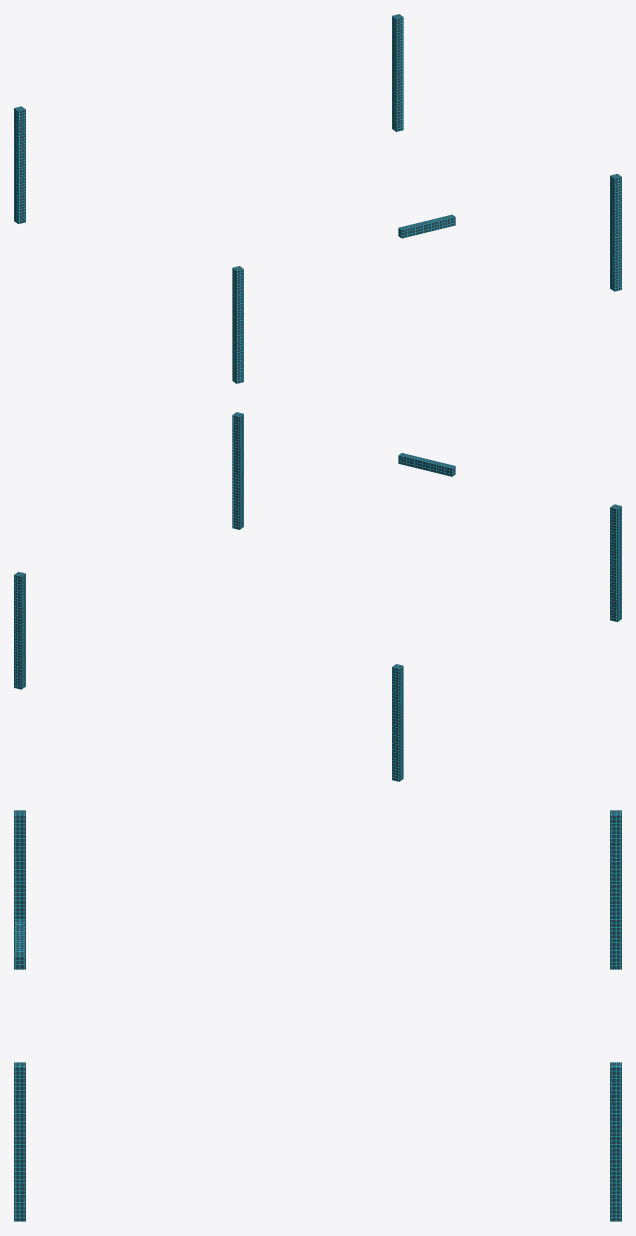
Rendered from accent-skin-12.glb.
3 views of the same model, one above another, from view 1: azimuth 30°, elevation 25°; view 2: azimuth 150°, elevation 25°; view 3: azimuth 270°, elevation 25° (orthographic). The views are drawn at different scales.
Visible parts, largest first — view 1: accent-skin-12; view 2: accent-skin-12; view 3: accent-skin-12.
Part boxes in pixels (<box>): accent-skin-12: <box>14,14,621,383</box>; accent-skin-12: <box>14,412,621,781</box>; accent-skin-12: <box>14,810,621,1221</box>.
Bounding box in the file's own units: 14.28 × 4 × 14.28.
1 material, 1 textured.
